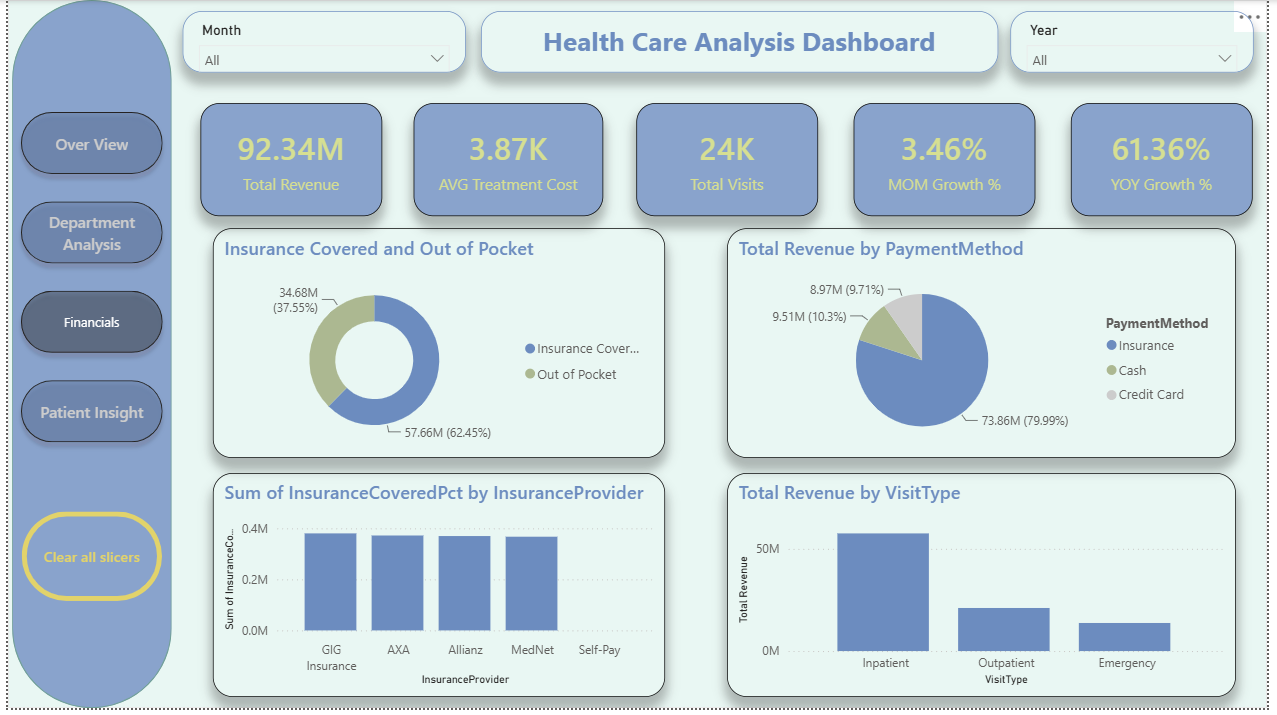

Layout of this report page (visuals, bound fields, positions):
{"tool":"powerbi","page":{"name":"Financials","canvas":[1280,720],"ordinal":2},"visuals":[{"type":"shape","box":[0,0,1280,720],"z":0},{"type":"columnChart","fields":{"Category":["healthcare_visits.VisitType"],"Y":["healthcare_visits.Total Revenue"]},"box":[730.9,480.8,517.1,227.8],"z":1000},{"type":"card","fields":{"Values":["healthcare_visits.AVG Treatment Cost"]},"box":[412.3,104.8,192.9,114.6],"z":2000},{"type":"donutChart","fields":{"Y":["healthcare_visits.Insurance Covered","healthcare_visits.Out of Pocket"]},"box":[208.2,232,459.8,233.4],"z":3000},{"type":"columnChart","fields":{"Category":["healthcare_visits.InsuranceProvider"],"Y":["Sum(healthcare_visits.InsuranceCoveredPct)"]},"box":[208.2,480.8,459.8,227.8],"z":4000},{"type":"pieChart","fields":{"Category":["healthcare_visits.PaymentMethod"],"Y":["healthcare_visits.Total Revenue"]},"box":[730.9,232,517.1,233.4],"z":5000},{"type":"card","fields":{"Values":["healthcare_visits.Total Revenue"]},"box":[195.7,104.8,185,115],"z":6000},{"type":"card","fields":{"Values":["healthcare_visits.YOY Growth %"]},"box":[1080.9,104.6,185,115],"z":7000},{"type":"card","fields":{"Values":["healthcare_visits.Total Visits"]},"box":[638,104.6,185,115],"z":8000},{"type":"card","fields":{"Values":["healthcare_visits.MOM Growth %"]},"box":[859.4,104.6,185,115],"z":9000},{"type":"shape","box":[4.2,0,162.1,719.8],"z":10000},{"type":"textbox","box":[480.8,11.2,525.5,62.9],"z":11000},{"type":"slicer","fields":{"Values":["DateTable.Year"]},"box":[1018.8,11.2,247.4,62.9],"z":12000},{"type":"slicer","fields":{"Values":["DateTable.Month"]},"box":[177.5,11.2,287.9,62.9],"z":13000},{"type":"pageNavigator","box":[4.2,104.8,162.1,355],"z":15001},{"type":"actionButton","box":[14,519.9,142.6,90.8],"z":15002}]}

Visuals, with their boxes in screenshot pixels (x1, y1, x2, y2), scaled from the page's 1280x720 canvas onto the 1277x715 screenshot:
shape: x1=0 y1=0 x2=1276 y2=714
columnChart - healthcare_visits.VisitType x healthcare_visits.Total Revenue: x1=729 y1=477 x2=1245 y2=704
card - healthcare_visits.AVG Treatment Cost: x1=411 y1=104 x2=604 y2=218
donutChart - healthcare_visits.Insurance Covered x healthcare_visits.Out of Pocket: x1=208 y1=230 x2=666 y2=462
columnChart - healthcare_visits.InsuranceProvider x Sum(healthcare_visits.InsuranceCoveredPct): x1=208 y1=477 x2=666 y2=704
pieChart - healthcare_visits.PaymentMethod x healthcare_visits.Total Revenue: x1=729 y1=230 x2=1245 y2=462
card - healthcare_visits.Total Revenue: x1=195 y1=104 x2=380 y2=218
card - healthcare_visits.YOY Growth %: x1=1078 y1=104 x2=1263 y2=218
card - healthcare_visits.Total Visits: x1=637 y1=104 x2=821 y2=218
card - healthcare_visits.MOM Growth %: x1=857 y1=104 x2=1042 y2=218
shape: x1=4 y1=0 x2=166 y2=714
textbox: x1=480 y1=11 x2=1004 y2=74
slicer - DateTable.Year: x1=1016 y1=11 x2=1263 y2=74
slicer - DateTable.Month: x1=177 y1=11 x2=464 y2=74
pageNavigator: x1=4 y1=104 x2=166 y2=457
actionButton: x1=14 y1=516 x2=156 y2=606
